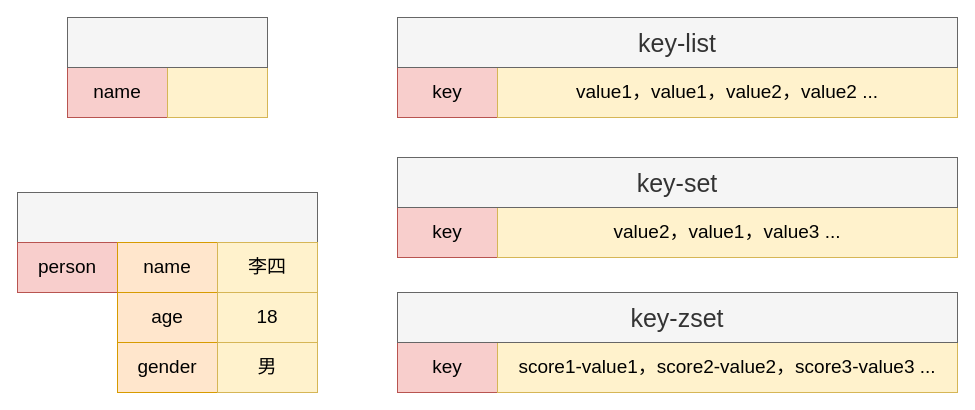
The diagram is 975 pixels wide and 410 high, and some of its shapes have lost their labels. The shapes that lost their labels are listed below. From the top down, each one's centre as x and y in pixels, then its label:
At [167,42]: "key-string".
At [217,92]: "张三".
At [167,217]: "key-hash".
